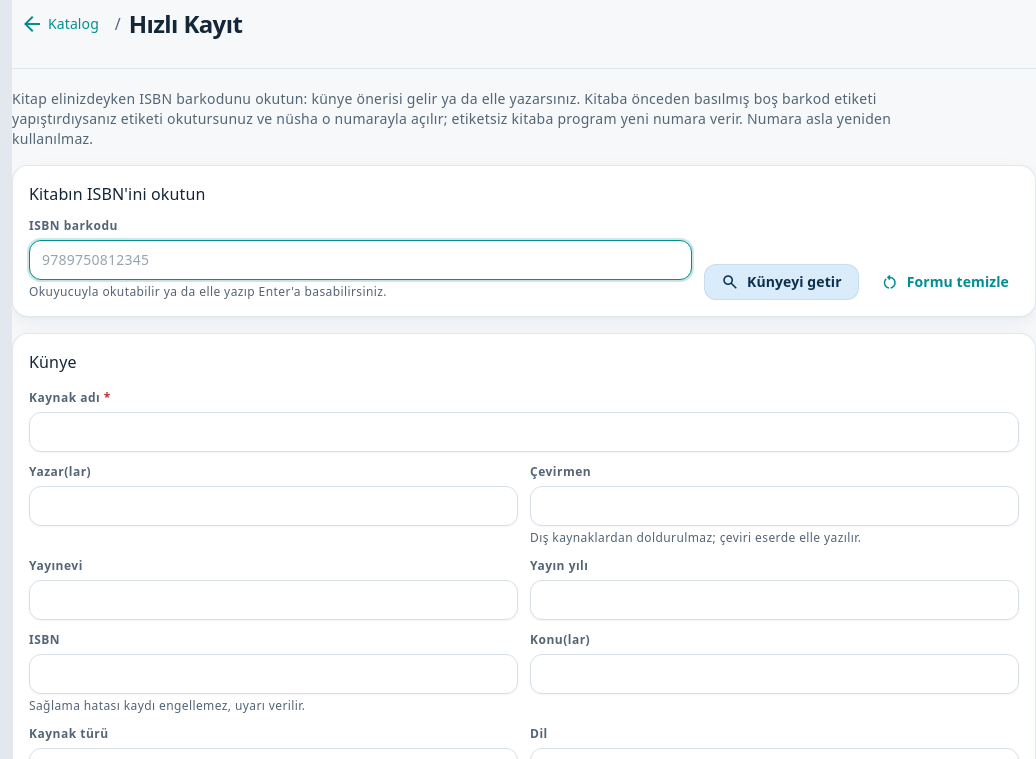
Test case: Hızlı Kayıt — okutulan kodun türü › kütüphane etiketi okutulursa künye sorgusu yapılmaz, doğru ileti çıkar
expect the heading "Hızlı Kayıt" is shown: met, box [129,8,242,40]
Type "2026000123" into the field labelled "ISBN barkodu" at [360, 260], box [42,250,679,270]
Then press Enter
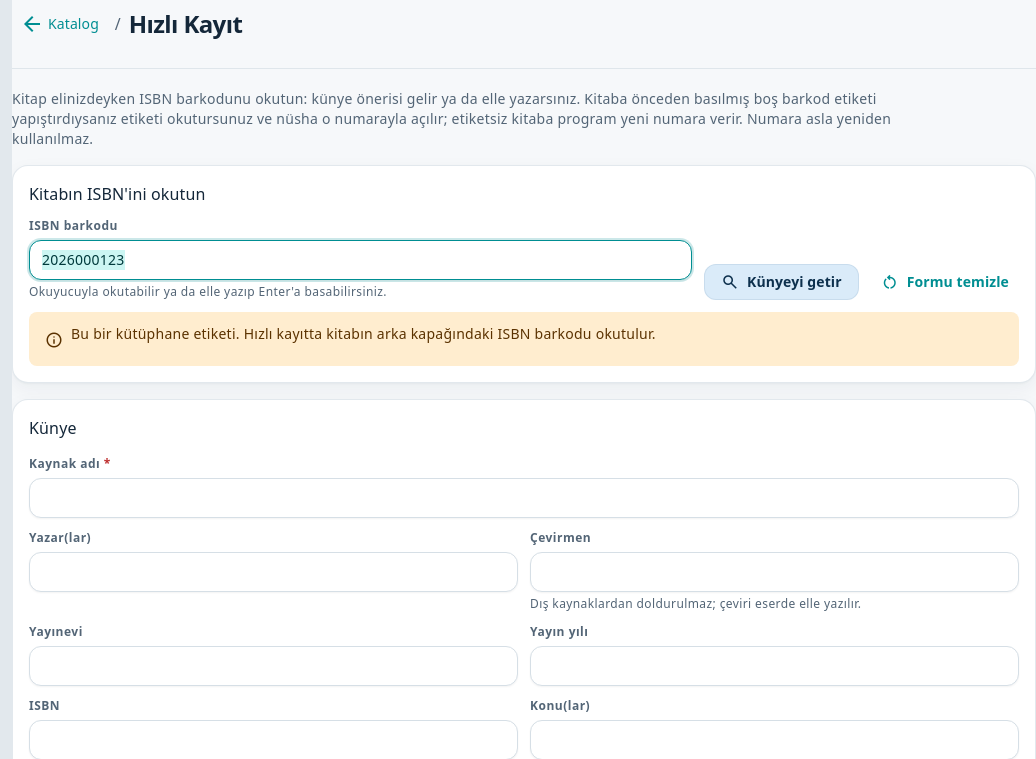
expect the text "Bu bir kütüphane etiketi. Hızlı kayıtta kitabın arka kapağındaki ISBN barkodu okutulur." is shown: met, box [71,324,656,343]
